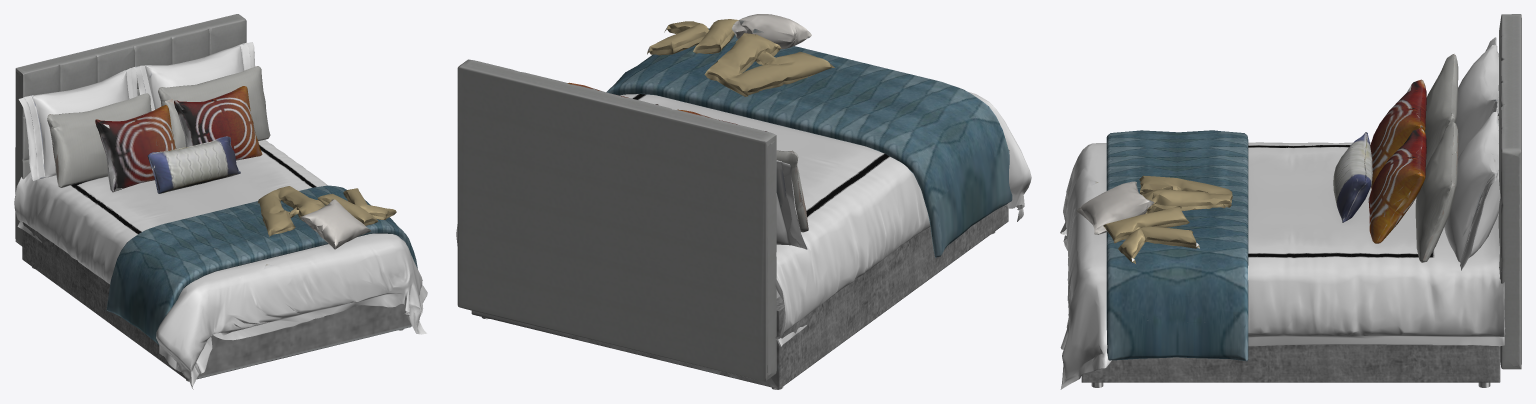
File: raw_model.obj
3 views of the same model, side by side, from view 1: azimuth 30°, elevation 25°; view 2: azimuth 150°, elevation 25°; view 3: azimuth 270°, elevation 25° (orthographic). The views are drawn at different scales.
Visible parts, largest first — view 1: solid_009, solid_008, solid_004, solid_010, solid_002, solid_001, solid_005, solid_006, solid_011, solid_007; view 2: solid_010, solid_008, solid_009, solid_004, solid_011, solid_005, solid_007, solid_001; view 3: solid_009, solid_008, solid_004, solid_005, solid_010, solid_002, solid_001, solid_011, solid_006, solid_007.
Boxes of the visible parts, left/top/right/bottom form: solid_009: left=14, top=139, right=427, bottom=389; solid_008: left=106, top=185, right=417, bottom=345; solid_004: left=22, top=222, right=411, bottom=381; solid_010: left=15, top=14, right=246, bottom=246; solid_002: left=95, top=86, right=262, bottom=192; solid_001: left=47, top=66, right=270, bottom=187; solid_005: left=18, top=42, right=255, bottom=181; solid_006: left=147, top=136, right=240, bottom=193; solid_011: left=258, top=186, right=396, bottom=236; solid_007: left=300, top=199, right=370, bottom=249; solid_010: left=457, top=59, right=776, bottom=381; solid_008: left=606, top=28, right=1012, bottom=257; solid_009: left=456, top=92, right=1031, bottom=346; solid_004: left=471, top=206, right=1008, bottom=389; solid_011: left=647, top=19, right=834, bottom=96; solid_005: left=776, top=160, right=807, bottom=298; solid_007: left=732, top=14, right=811, bottom=49; solid_001: left=776, top=150, right=808, bottom=232; solid_009: left=1060, top=142, right=1505, bottom=389; solid_008: left=1106, top=130, right=1248, bottom=361; solid_004: left=1081, top=233, right=1500, bottom=382; solid_005: left=1444, top=37, right=1500, bottom=270; solid_010: left=1498, top=14, right=1521, bottom=369; solid_002: left=1368, top=79, right=1426, bottom=243; solid_001: left=1415, top=54, right=1458, bottom=262; solid_011: left=1103, top=175, right=1232, bottom=263; solid_006: left=1333, top=132, right=1372, bottom=222; solid_007: left=1076, top=181, right=1154, bottom=234.
Size of the model in its own units: 1.77 by 1.19 by 2.08.
1 material, 1 textured.
